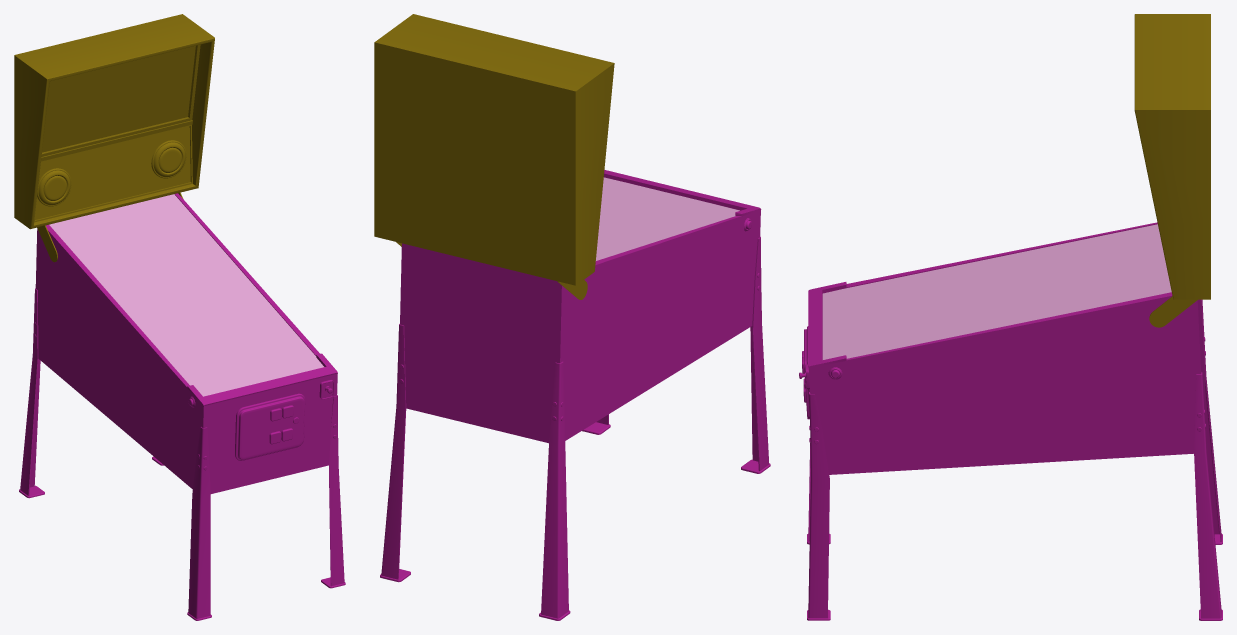
File: pinball-001-OBJ.obj
3 views of the same model, side by side, from view 1: azimuth 30°, elevation 25°; view 2: azimuth 150°, elevation 25°; view 3: azimuth 270°, elevation 25° (orthographic). The views are drawn at different scales.
Visible parts, largest first — view 1: pinball_body_base, pinball_monitor, pinball_glass; view 2: pinball_body_base, pinball_monitor, pinball_glass; view 3: pinball_body_base, pinball_glass, pinball_monitor.
Boxes of the visible parts, x1,y1,x2,y2 form: pinball_body_base: [19, 193, 345, 620]; pinball_monitor: [14, 14, 214, 262]; pinball_glass: [49, 194, 323, 396]; pinball_body_base: [380, 170, 770, 620]; pinball_monitor: [374, 14, 614, 299]; pinball_glass: [596, 177, 739, 260]; pinball_body_base: [799, 222, 1222, 620]; pinball_glass: [822, 224, 1171, 359]; pinball_monitor: [1134, 14, 1210, 327].
Size of the model in its own units: 704 by 1765 by 1314.
